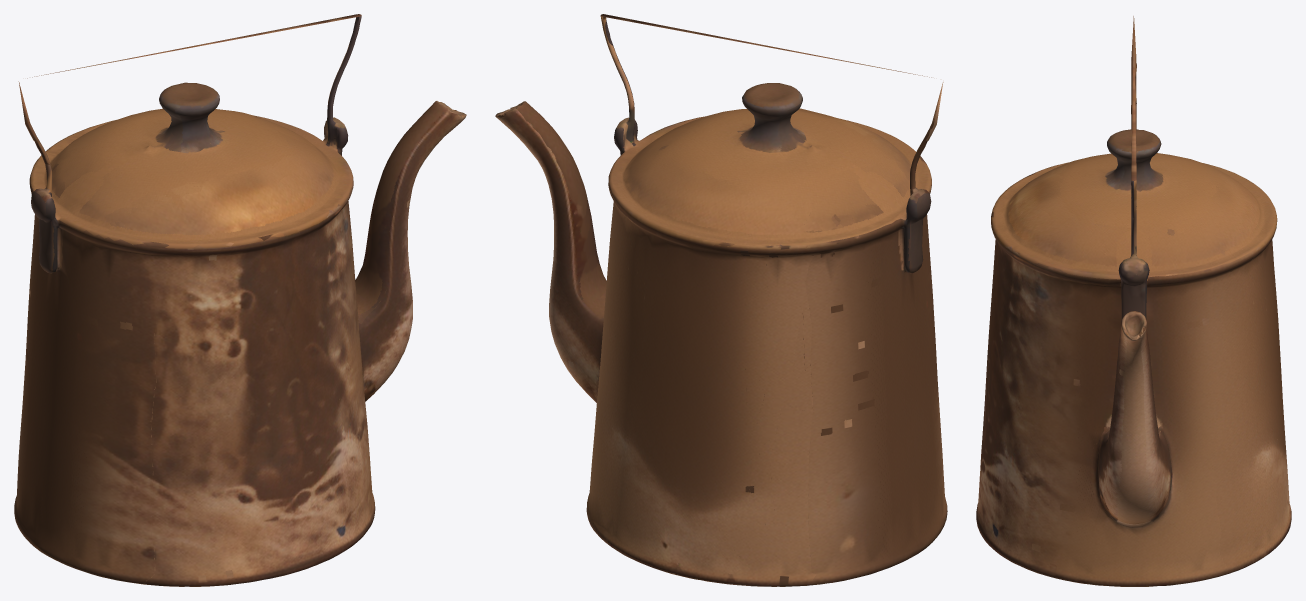
Rendered from caldera.glb.
3 views of the same model, side by side, from view 1: azimuth 30°, elevation 25°; view 2: azimuth 150°, elevation 25°; view 3: azimuth 270°, elevation 25° (orthographic). The views are drawn at different scales.
Visible parts, largest first — view 1: temp_mesh.ply; view 2: temp_mesh.ply; view 3: temp_mesh.ply.
Boxes of the visible parts, x1,y1,x2,y2 form: temp_mesh.ply: (14,14,466,586); temp_mesh.ply: (495,14,947,586); temp_mesh.ply: (976,16,1291,586).
Size of the model in its own units: 0.2555 by 0.26 by 0.1736.
1 material, 1 textured.
